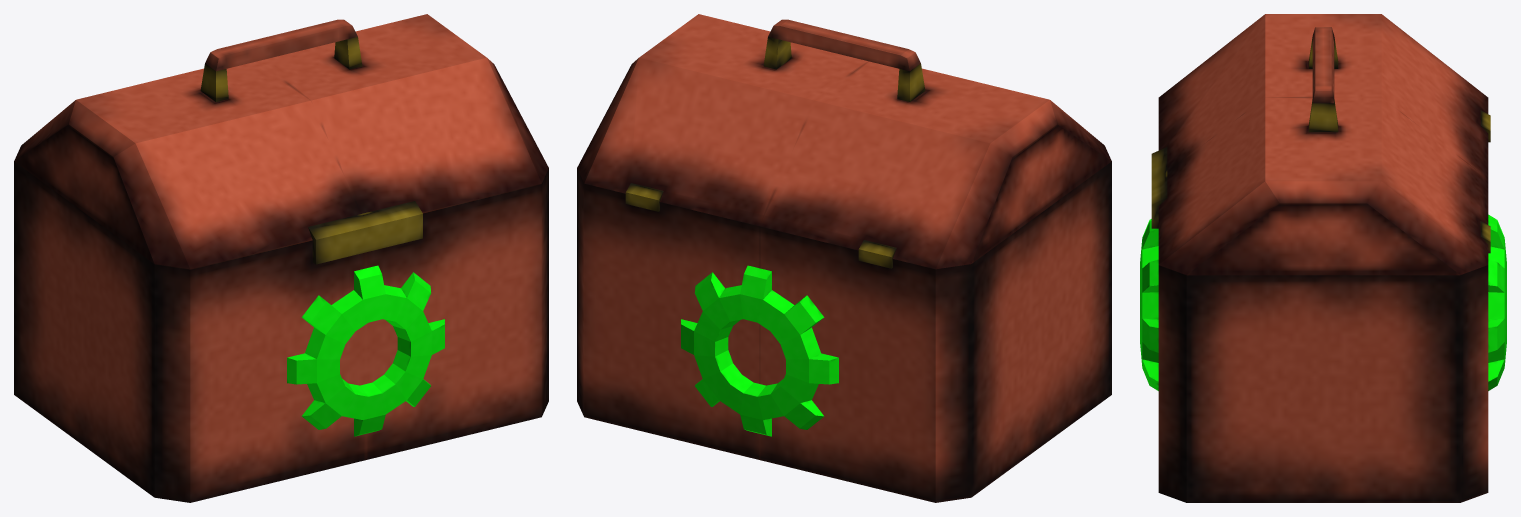
Rendered from RepairKit.fbx.
3 renders of one model, left to right at view 1: azimuth 30°, elevation 25°; view 2: azimuth 150°, elevation 25°; view 3: azimuth 270°, elevation 25°, orthographic. The views are drawn at different scales.
Visible parts, largest first — view 1: RepairKit, Cylinder; view 2: RepairKit, Cylinder.001; view 3: RepairKit, Cylinder.001, Cylinder.
Part boxes in pixels (x1=…): RepairKit: x1=14, y1=14, x2=548, y2=502; Cylinder: x1=287, y1=265, x2=444, y2=436; RepairKit: x1=577, y1=14, x2=1111, y2=502; Cylinder.001: x1=681, y1=265, x2=838, y2=436; RepairKit: x1=1151, y1=14, x2=1490, y2=502; Cylinder.001: x1=1488, y1=214, x2=1506, y2=390; Cylinder: x1=1140, y1=219, x2=1158, y2=390.
Size of the model in its own units: 48.12 by 42.05 by 39.76.
Materials: 2 (2 with a texture image).
